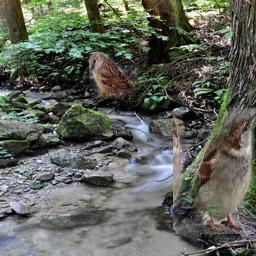Sparrow: (173, 108, 255, 234), (89, 52, 136, 99)
